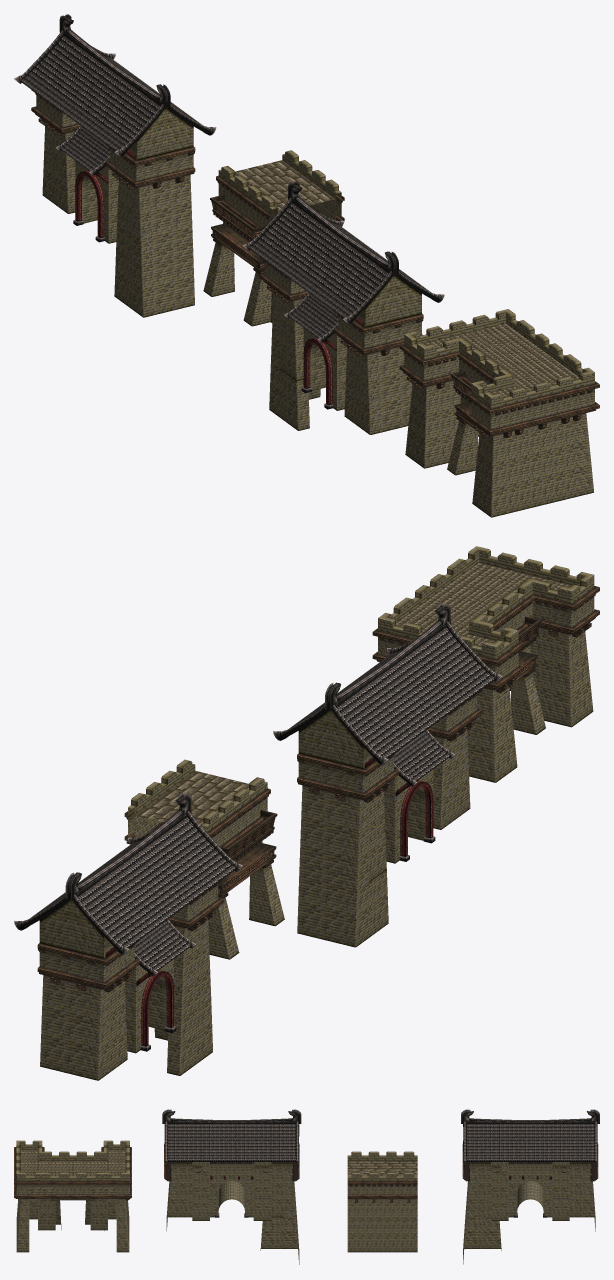
File: EnvMdrMD_Desert_Gate_A_Gate_A.FBX
The picture shows the model from 3 angles, top to bottom: view 1: azimuth 30°, elevation 25°; view 2: azimuth 150°, elevation 25°; view 3: azimuth 270°, elevation 25°; orthographic projection. The views are drawn at different scales.
Visible parts, largest first — view 1: EnvMdrMD_Desert_Gate_A_Gate_B, EnvMdrMD_Desert_Gate_A_Gate_C, EnvMdrMD_Desert_Gate_A_Gate_D, EnvMdrMD_Desert_Gate_A_Gate_A; view 2: EnvMdrMD_Desert_Gate_A_Gate_D, EnvMdrMD_Desert_Gate_A_Gate_B, EnvMdrMD_Desert_Gate_A_Gate_C, EnvMdrMD_Desert_Gate_A_Gate_A; view 3: EnvMdrMD_Desert_Gate_A_Gate_B, EnvMdrMD_Desert_Gate_A_Gate_D, EnvMdrMD_Desert_Gate_A_Gate_C, EnvMdrMD_Desert_Gate_A_Gate_A.
Boxes of the visible parts, x1,y1,x2,y2 form: EnvMdrMD_Desert_Gate_A_Gate_B: (14, 14, 216, 317); EnvMdrMD_Desert_Gate_A_Gate_C: (399, 309, 599, 517); EnvMdrMD_Desert_Gate_A_Gate_D: (242, 181, 444, 434); EnvMdrMD_Desert_Gate_A_Gate_A: (203, 150, 344, 326); EnvMdrMD_Desert_Gate_A_Gate_D: (273, 603, 502, 947); EnvMdrMD_Desert_Gate_A_Gate_B: (14, 793, 243, 1080); EnvMdrMD_Desert_Gate_A_Gate_C: (372, 546, 599, 782); EnvMdrMD_Desert_Gate_A_Gate_A: (124, 759, 284, 959); EnvMdrMD_Desert_Gate_A_Gate_B: (461, 1109, 599, 1264); EnvMdrMD_Desert_Gate_A_Gate_D: (162, 1109, 301, 1264); EnvMdrMD_Desert_Gate_A_Gate_C: (14, 1140, 131, 1252); EnvMdrMD_Desert_Gate_A_Gate_A: (347, 1151, 417, 1252).
Bounding box in the file's own units: 1215 × 1845 × 6699.
Materials: 1 (1 with a texture image).
